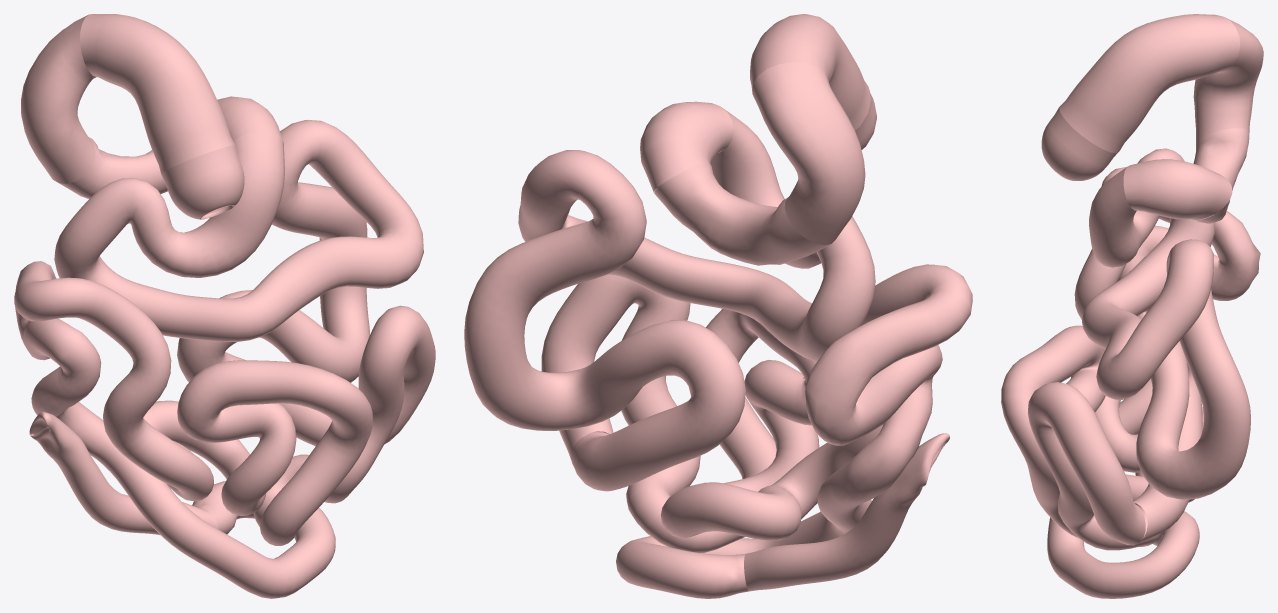
File: 3d-vh-f-small-intestine.glb
The picture shows the model from 3 angles, left to right: view 1: azimuth 30°, elevation 25°; view 2: azimuth 150°, elevation 25°; view 3: azimuth 270°, elevation 25°; orthographic projection. The views are drawn at different scales.
Visible parts, largest first — view 1: VH_F_ileum, VH_F_jejenum, VH_F_duodenum_superior, VH_F_duodenum_descending, VH_F_ileum_terminal, VH_F_duodenal_ampulla, VH_F_duodenum_horizontal, VH_F_duodenum_ascending; view 2: VH_F_ileum, VH_F_jejenum, VH_F_duodenum_descending, VH_F_ileum_terminal, VH_F_duodenum_horizontal, VH_F_duodenum_superior, VH_F_duodenum_ascending; view 3: VH_F_jejenum, VH_F_ileum, VH_F_duodenum_superior, VH_F_duodenum_ascending, VH_F_duodenum_descending, VH_F_duodenal_ampulla, VH_F_duodenum_horizontal.
Boxes of the visible parts, x1,y1,x2,y2 form: VH_F_ileum: (14,261,435,598); VH_F_jejenum: (54,120,423,446); VH_F_duodenum_superior: (80,14,234,173); VH_F_duodenum_descending: (21,14,96,183); VH_F_ileum_terminal: (29,411,217,535); VH_F_duodenal_ampulla: (161,145,244,219); VH_F_duodenum_horizontal: (59,137,167,198); VH_F_duodenum_ascending: (217,96,281,140); VH_F_ileum: (541,264,972,598); VH_F_jejenum: (464,107,875,491); VH_F_duodenum_descending: (752,62,865,245); VH_F_ileum_terminal: (744,433,949,591); VH_F_duodenum_horizontal: (654,163,830,265); VH_F_duodenum_superior: (750,14,870,130); VH_F_duodenum_ascending: (640,101,733,193); VH_F_jejenum: (1082,148,1250,542); VH_F_ileum: (1001,167,1260,598); VH_F_duodenum_superior: (1059,14,1240,153); VH_F_duodenum_ascending: (1123,159,1232,219); VH_F_duodenum_descending: (1193,17,1263,142); VH_F_duodenal_ampulla: (1041,108,1119,180); VH_F_duodenum_horizontal: (1193,128,1249,223).
Bounding box in the file's own units: 0.1616 × 0.2172 × 0.1.
